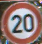20 km speed: (1, 1, 42, 43)
